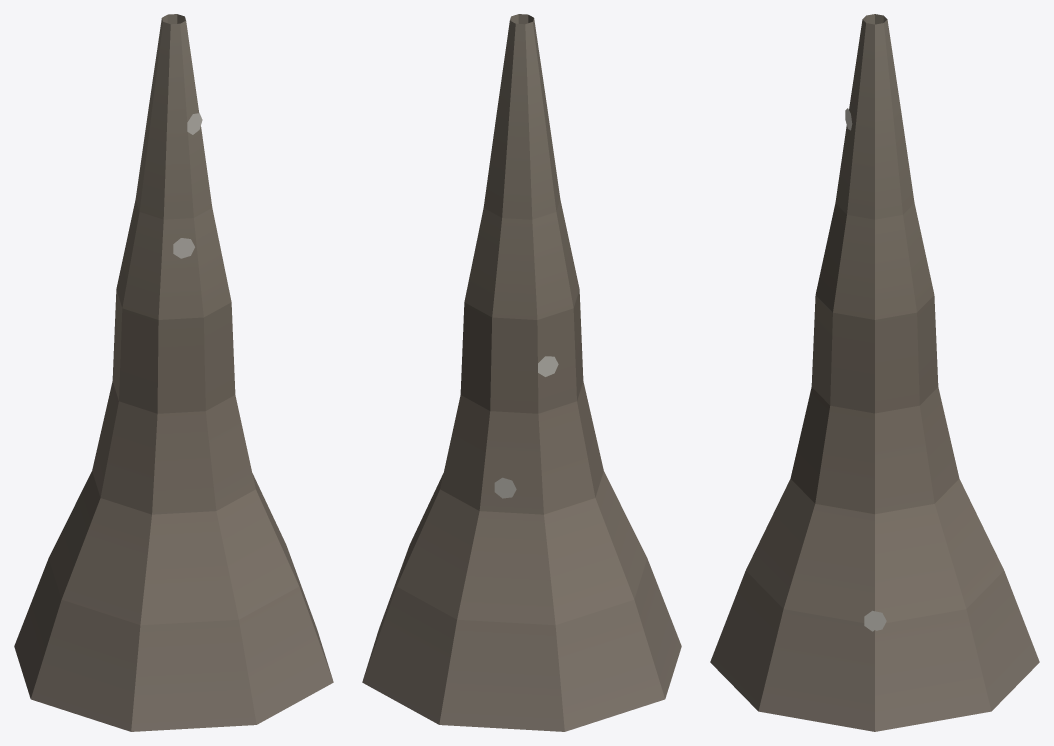
Rendered from stalagmite_v0.glb.
3 views of the same model, side by side, from view 1: azimuth 30°, elevation 25°; view 2: azimuth 150°, elevation 25°; view 3: azimuth 270°, elevation 25° (orthographic).
Visible parts, largest first — view 1: world; view 2: world; view 3: world.
Boxes of the visible parts, left/top/right/bottom form: world: left=14, top=14, right=333, bottom=731; world: left=362, top=14, right=681, bottom=731; world: left=710, top=14, right=1039, bottom=731.
Size of the model in its own units: 0.4647 by 1 by 0.4647.
